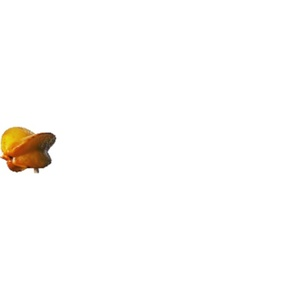carambola: (1, 127, 56, 174)
